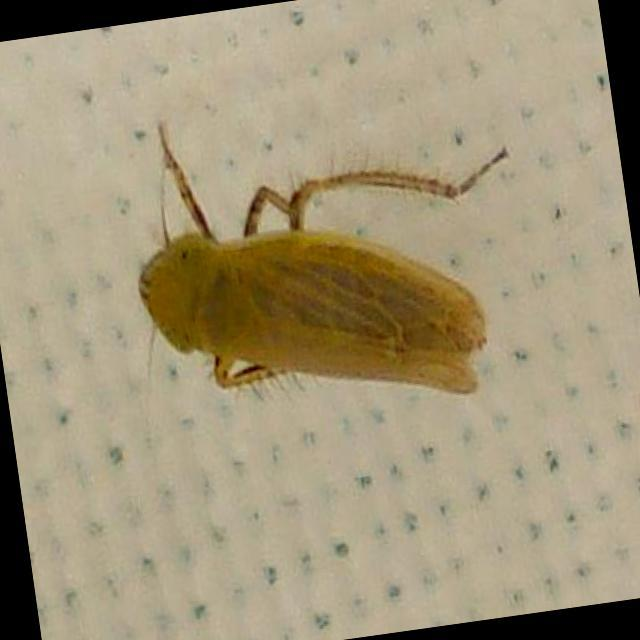green leaf hopper: (138, 127, 507, 393)
